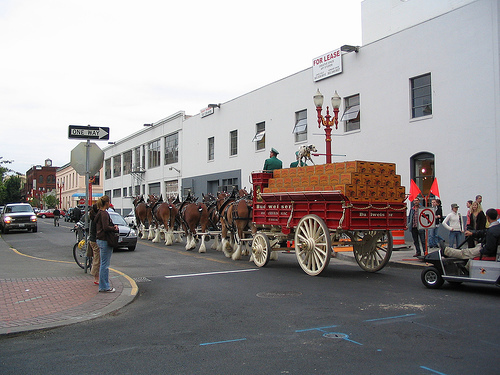horse: (214, 191, 260, 262), (176, 197, 209, 252), (145, 193, 179, 246), (133, 194, 157, 241)
